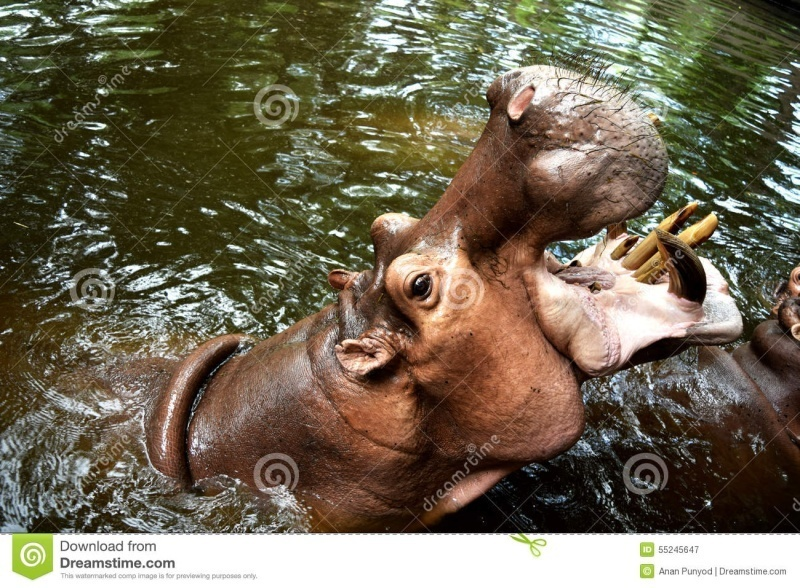hipopotamo: (134, 60, 748, 515)
